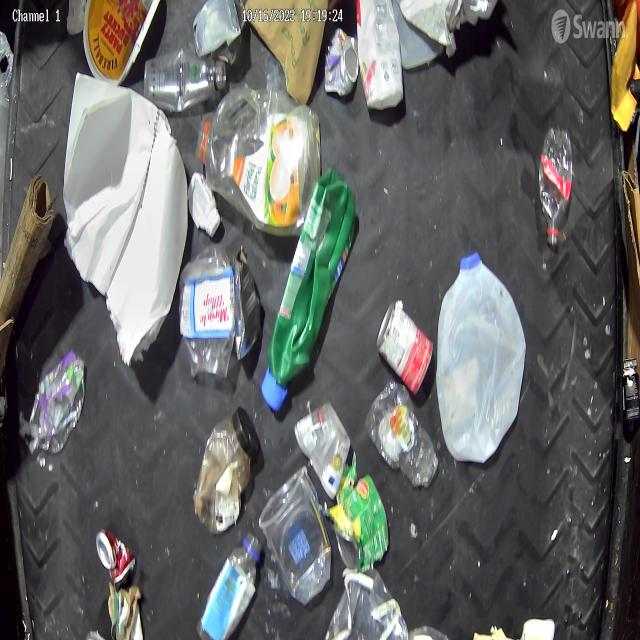can: (333, 471, 392, 570), (374, 300, 434, 396), (324, 27, 361, 104), (93, 523, 138, 583)
milk_jug: (436, 250, 528, 466)
non_white_jug: (260, 163, 358, 415), (197, 78, 320, 240)
plastic_bottle: (362, 374, 440, 492), (197, 527, 264, 640), (142, 51, 229, 114), (537, 126, 575, 249)
